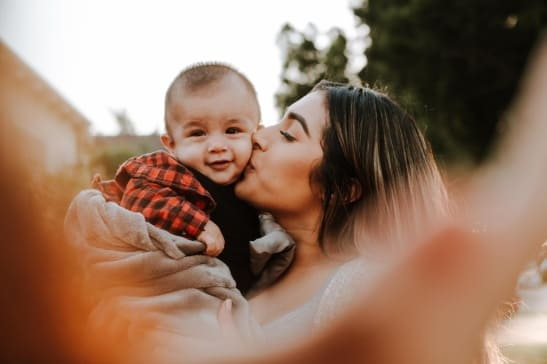person: (237, 87, 451, 326), (100, 65, 265, 263)
